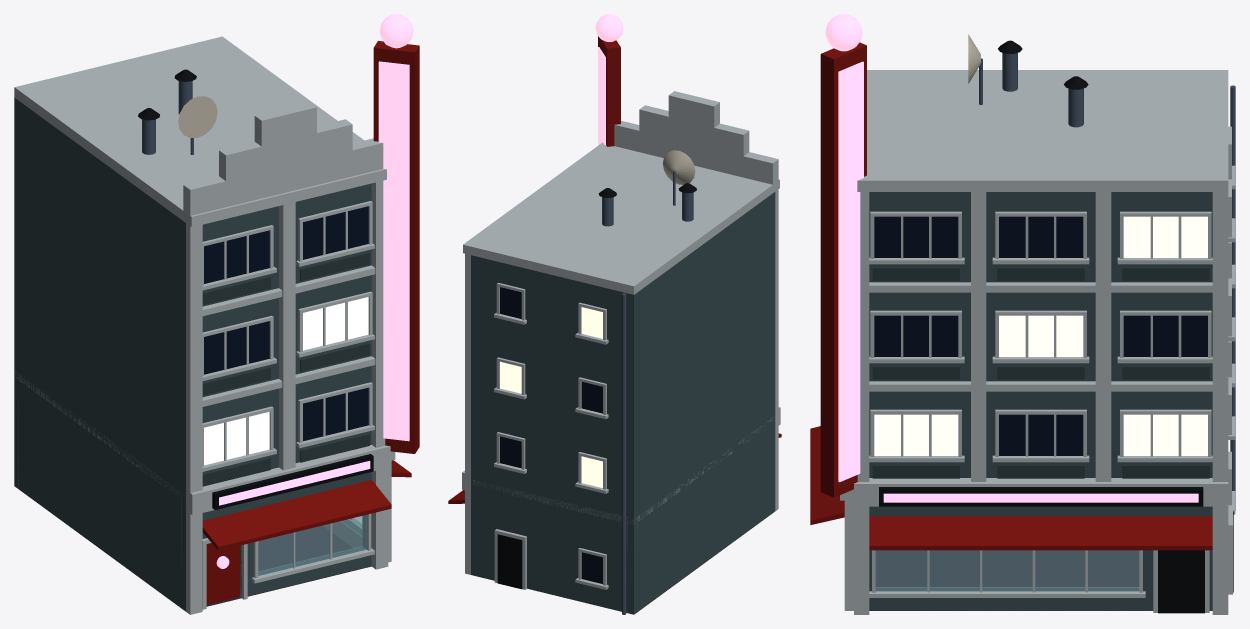
Rendered from corner_sign.glb.
3 renders of one model, left to right at view 1: azimuth 30°, elevation 25°; view 2: azimuth 150°, elevation 25°; view 3: azimuth 270°, elevation 25°, orthographic. The views are drawn at different scales.
Visible parts, largest first — view 1: corner_sign, door_shop_leaf; view 2: corner_sign; view 3: corner_sign.
Boxes of the visible parts, x1,y1,x2,y2 form: corner_sign: [14, 14, 419, 614]; door_shop_leaf: [206, 543, 240, 604]; corner_sign: [448, 14, 781, 614]; corner_sign: [810, 14, 1235, 614].
Bounding box in the file's own units: 9.4 × 21.2 × 13.64.
